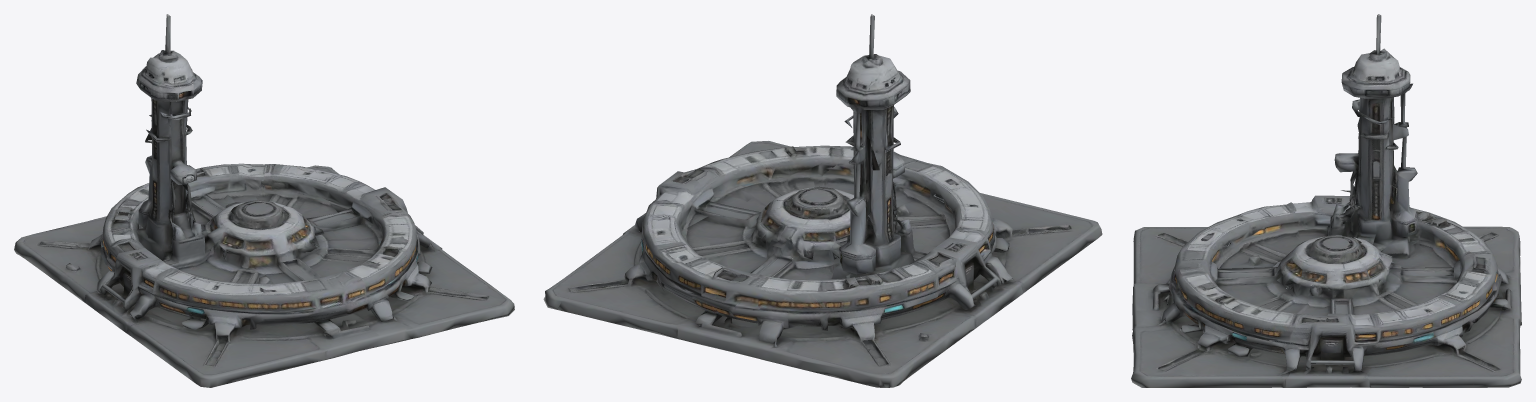
File: shipyard.glb
The picture shows the model from 3 angles, left to right: view 1: azimuth 30°, elevation 25°; view 2: azimuth 150°, elevation 25°; view 3: azimuth 270°, elevation 25°; orthographic projection. The views are drawn at different scales.
Visible parts, largest first — view 1: tripo_node_0f07666c-bbac-4490-822d-50b09559dc67; view 2: tripo_node_0f07666c-bbac-4490-822d-50b09559dc67; view 3: tripo_node_0f07666c-bbac-4490-822d-50b09559dc67.
Boxes of the visible parts, box(x1,y1,x2,y2) form: tripo_node_0f07666c-bbac-4490-822d-50b09559dc67: box(14, 14, 514, 387); tripo_node_0f07666c-bbac-4490-822d-50b09559dc67: box(543, 14, 1102, 387); tripo_node_0f07666c-bbac-4490-822d-50b09559dc67: box(1131, 14, 1521, 387).
Size of the model in its own units: 0.9341 by 0.7434 by 1.
1 material, 1 textured.
